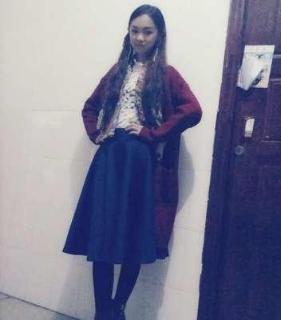long sleeve outwear: (81, 56, 203, 259)
skirt: (62, 127, 157, 264)
